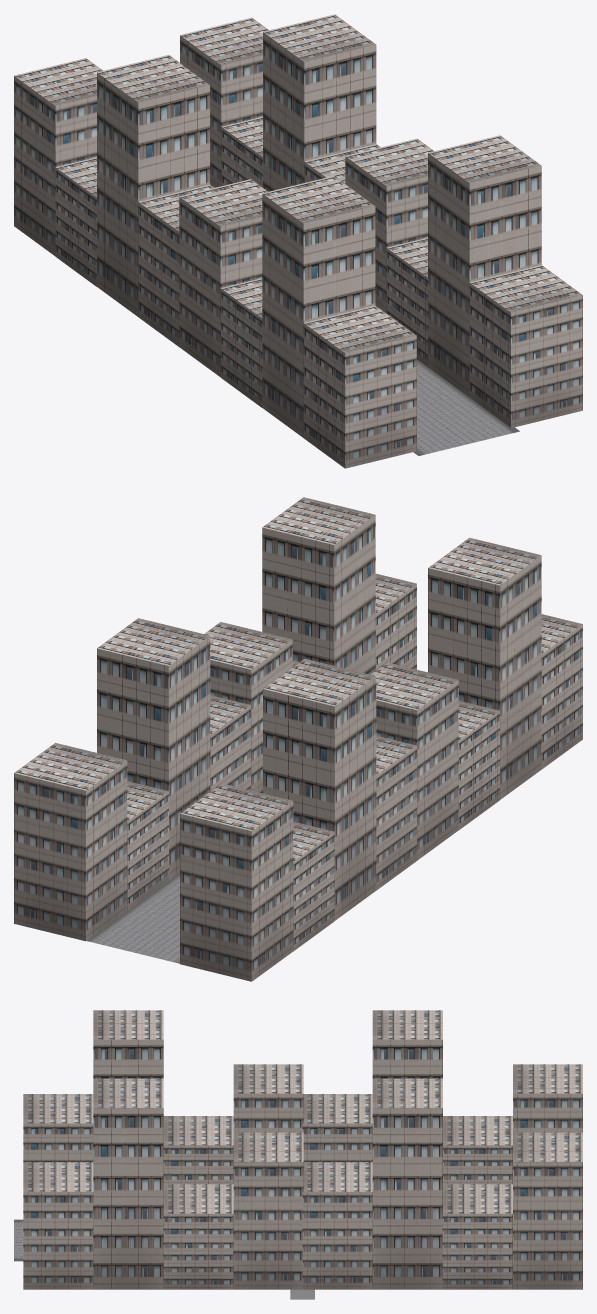
Rendered from BUILDINGS 1.fbx.
The picture shows the model from 3 angles, top to bottom: view 1: azimuth 30°, elevation 25°; view 2: azimuth 150°, elevation 25°; view 3: azimuth 270°, elevation 25°; orthographic projection. The views are drawn at different scales.
Visible parts, largest first — view 1: Cube.006, Cube.014, Cube.010, Cube.015, Cube.007, Cube.002, Cube.012, Cube.008, Cube.004, Cube, Cube.011, Plane (+5 smaller); view 2: Cube.010, Cube.014, Cube.008, Cube, Cube.002, Cube.006, Cube.012, Cube.004, Cube.015, Cube.011, Cube.013, Cube.009 (+4 smaller); view 3: Cube.006, Cube.002, Cube.004, Cube, Cube.007, Cube.003, Cube.005, Cube.001, Cube.010, Cube.014, Cube.013, Cube.015 (+5 smaller).
Part boxes in pixels (<box>): Cube.006: <box>428,135,541,397</box>; Cube.014: <box>262,176,375,437</box>; Cube.010: <box>97,55,210,316</box>; Cube.015: <box>303,305,416,468</box>; Cube.007: <box>469,265,582,427</box>; Cube.002: <box>263,14,376,191</box>; Cube.012: <box>179,179,268,376</box>; Cube.008: <box>14,58,102,256</box>; Cube.004: <box>345,138,433,312</box>; Cube: <box>180,17,268,187</box>; Cube.011: <box>138,184,214,346</box>; Plane: <box>413,359,519,455</box>; Cube.010: <box>263,658,376,920</box>; Cube.014: <box>428,537,541,799</box>; Cube.008: <box>180,783,293,981</box>; Cube: <box>14,743,127,941</box>; Cube.002: <box>97,618,210,879</box>; Cube.006: <box>262,497,375,674</box>; Cube.012: <box>370,662,458,860</box>; Cube.004: <box>204,622,292,793</box>; Cube.015: <box>541,614,582,769</box>; Cube.011: <box>376,735,416,890</box>; Cube.013: <box>458,701,499,830</box>; Cube.009: <box>293,821,334,951</box>; Cube.006: <box>93,1078,163,1289</box>; Cube.002: <box>372,1078,442,1289</box>; Cube.004: <box>233,1132,303,1289</box>; Cube: <box>513,1132,582,1289</box>; Cube.007: <box>23,1162,93,1289</box>; Cube.003: <box>302,1162,372,1289</box>; Cube.005: <box>163,1184,233,1289</box>; Cube.001: <box>442,1184,512,1289</box>; Cube.010: <box>372,1010,442,1078</box>; Cube.014: <box>93,1010,163,1078</box>; Cube.013: <box>163,1116,233,1184</box>; Cube.015: <box>23,1094,93,1162</box>.
Size of the model in its own units: 4899 by 4805 by 12013.
